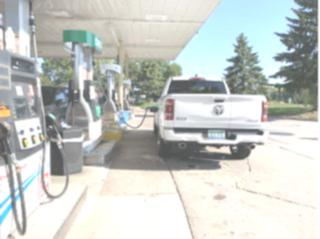ram: (212, 102, 229, 119)
